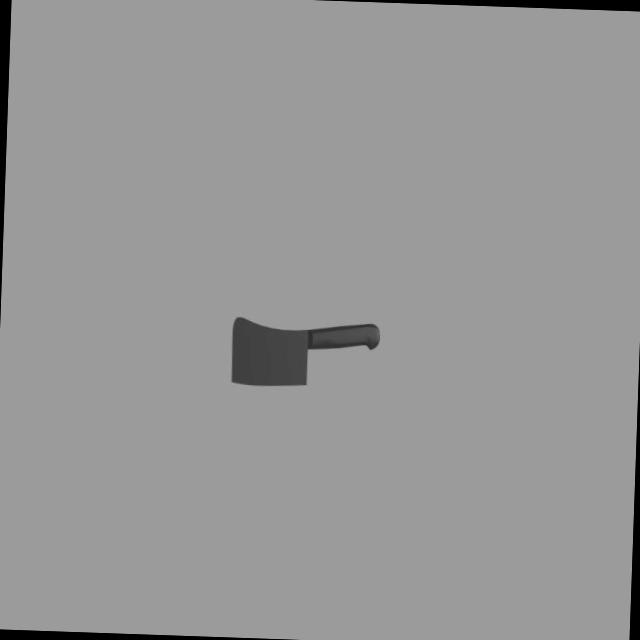knife: (307, 322, 380, 352)
